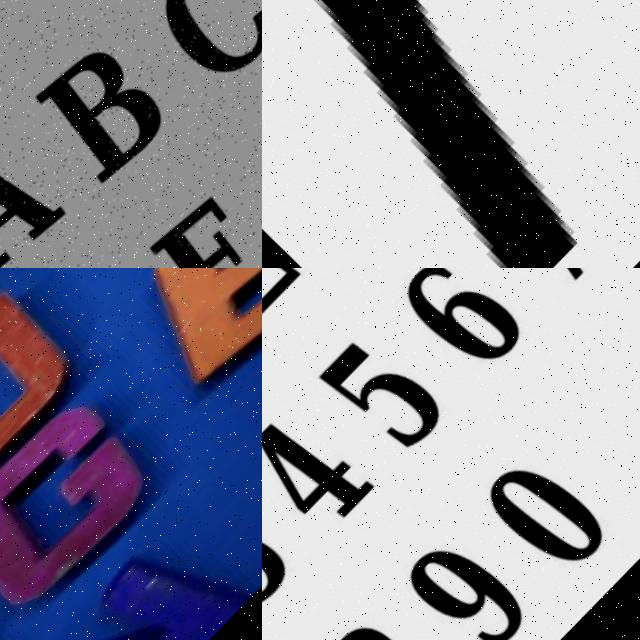0: (448, 419, 640, 624)
3: (262, 456, 317, 640)
4: (262, 387, 399, 570)
5: (298, 312, 468, 491)
6: (356, 268, 556, 420)
7: (440, 268, 628, 337)
8: (308, 586, 478, 640)
9: (378, 506, 563, 640)
E: (118, 268, 262, 415)
G: (0, 363, 204, 640)
N: (262, 0, 640, 268), (0, 487, 262, 640)
U: (0, 268, 120, 521)
